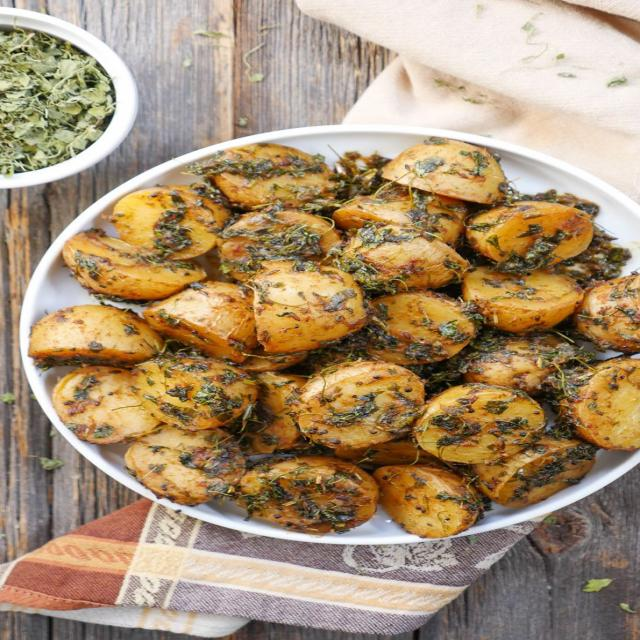Aloo Methi: (48, 139, 640, 533)
